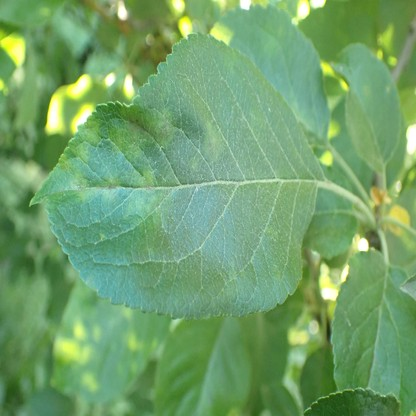scab: (112, 103, 172, 158), (62, 116, 100, 170), (204, 120, 225, 161), (262, 20, 285, 56), (135, 170, 155, 209), (72, 173, 90, 201), (100, 171, 118, 197), (266, 224, 280, 237)
